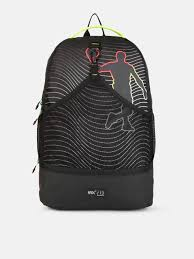backpack: (32, 12, 155, 210)
